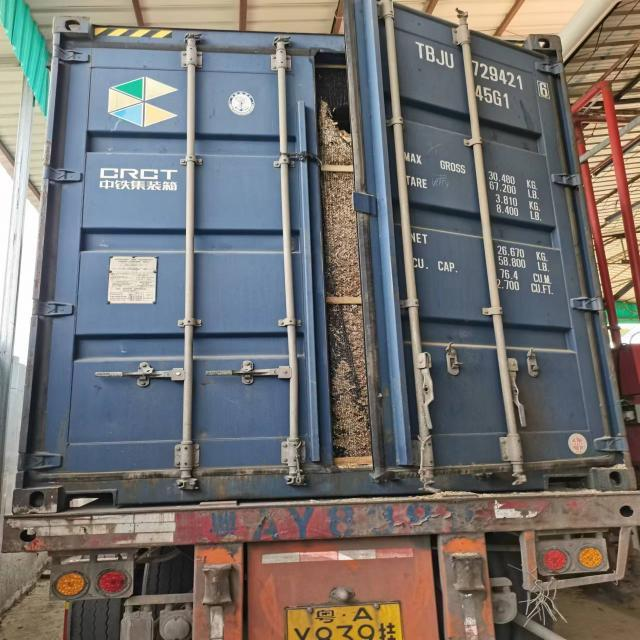ISO: (476, 86, 512, 108)
container_number: (417, 44, 536, 90)
